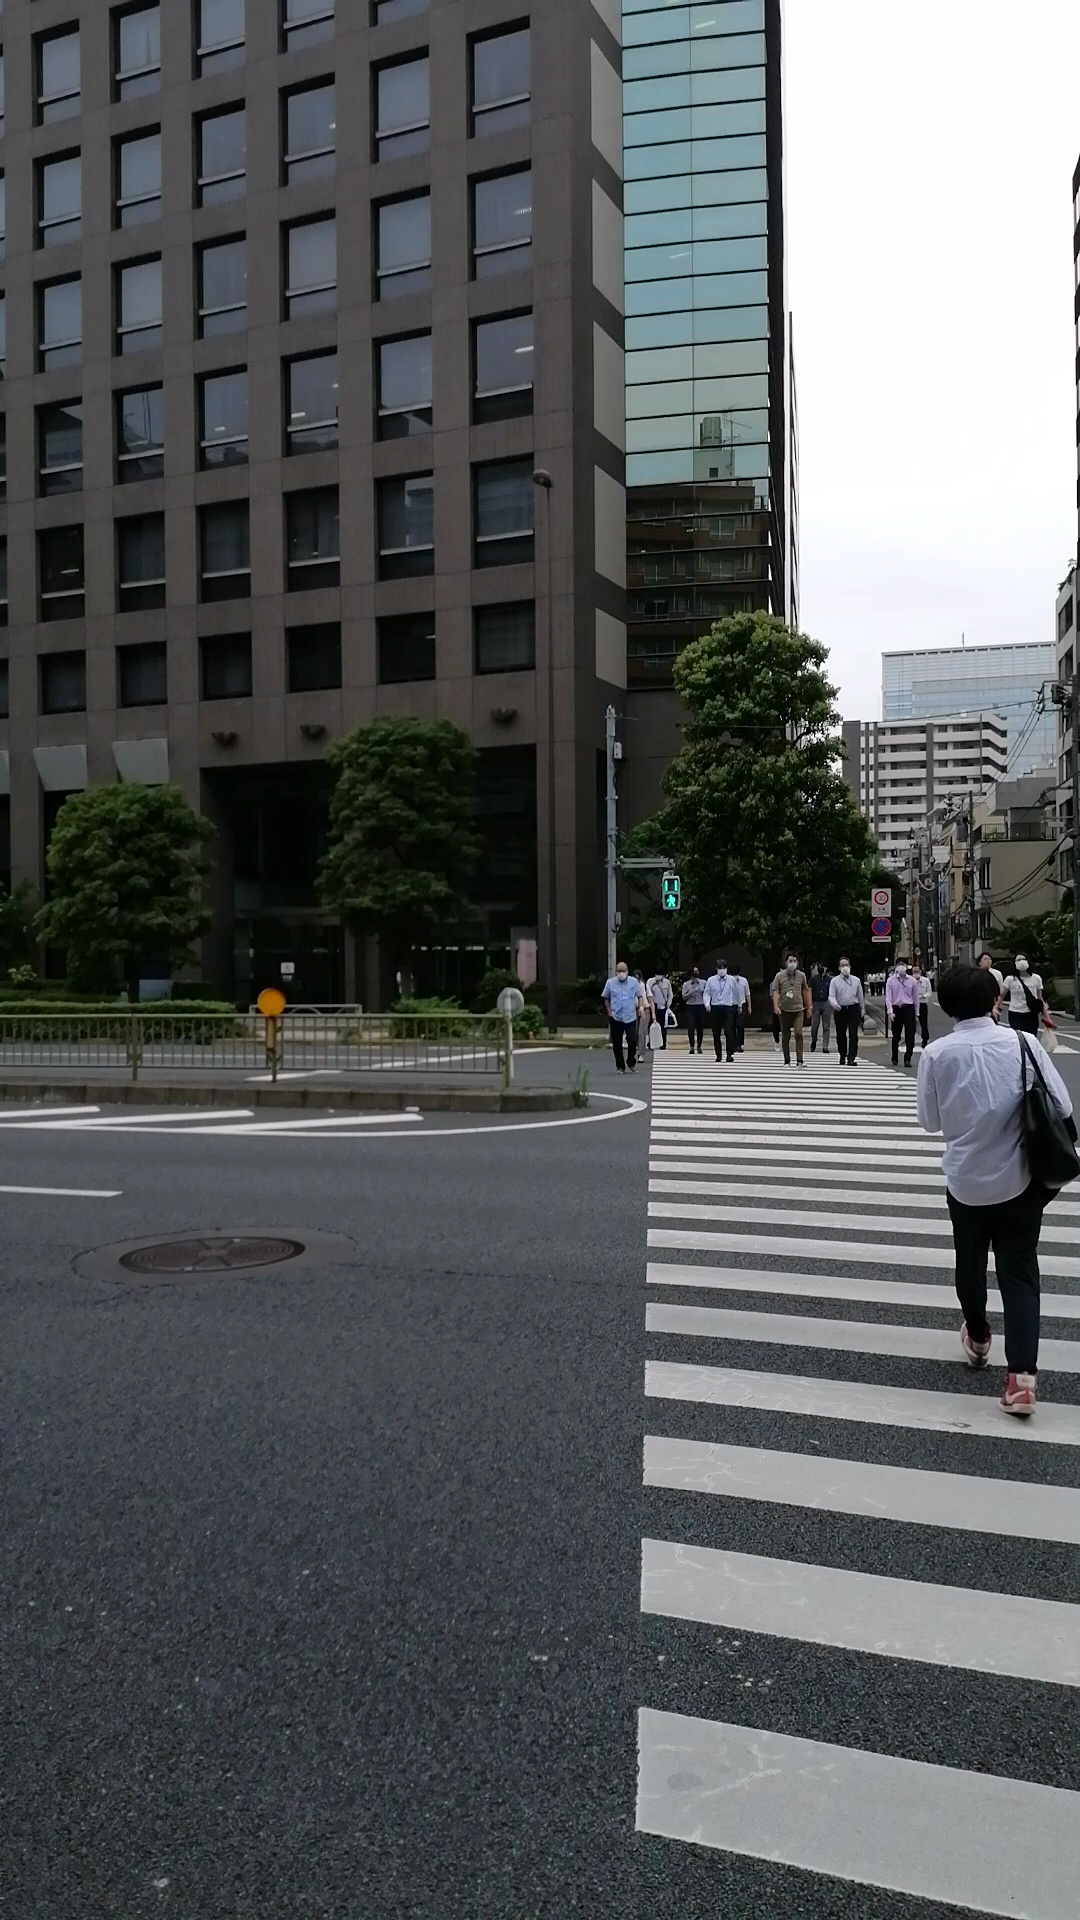green: (661, 872, 680, 910)
